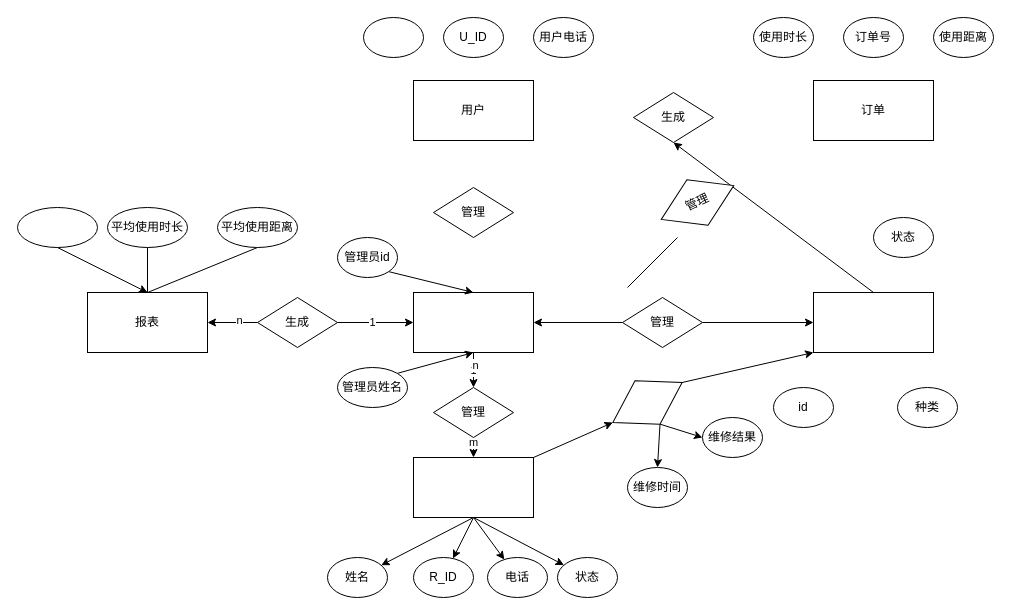
Some shapes in this 1011 by 615 pixel diagram are drawn without their labels. The box of each missing label's shape, as (x1, y1, x2, y2) in pixels:
单车: (812, 292, 934, 352)
单车总情况: (16, 206, 98, 248)
用户姓名: (362, 16, 424, 58)
管理员: (412, 292, 534, 352)
维修: (599, 360, 695, 444)
维修人员: (412, 456, 534, 518)
